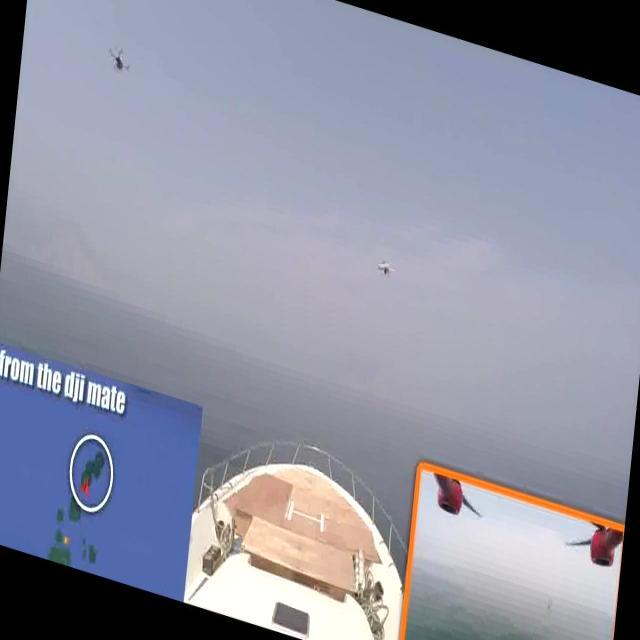drone: (375, 252, 397, 284), (108, 46, 128, 76)
